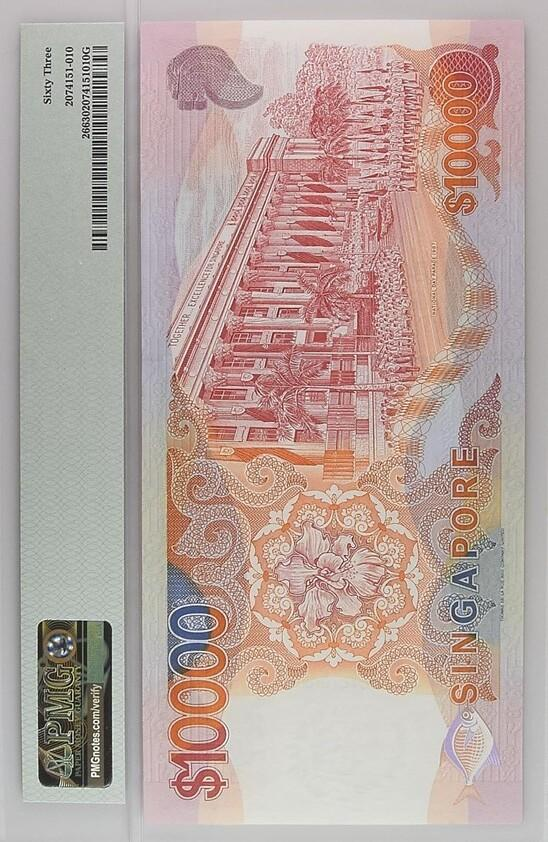10000SingaporeDollar: (142, 23, 520, 820)
